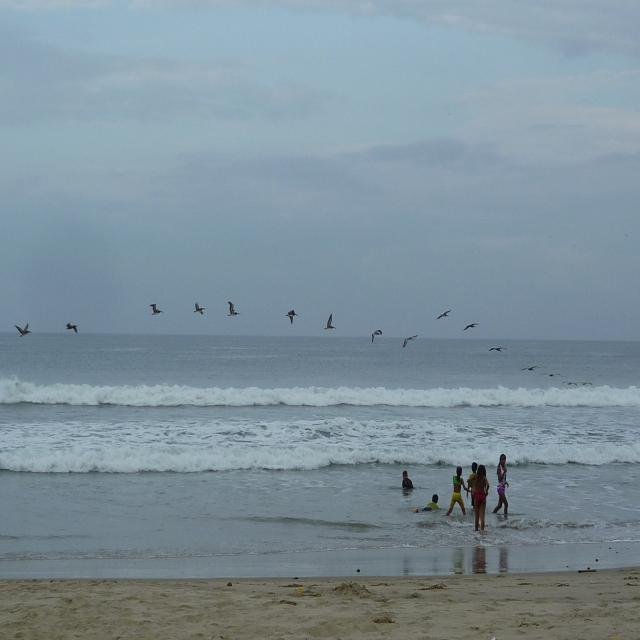bird: (401, 336, 420, 350), (15, 324, 33, 338), (436, 308, 452, 321), (227, 302, 240, 318), (286, 309, 298, 326), (322, 313, 334, 330), (150, 302, 164, 316), (463, 323, 480, 334), (370, 330, 385, 342), (489, 344, 506, 354), (65, 321, 78, 333), (194, 302, 205, 316)
